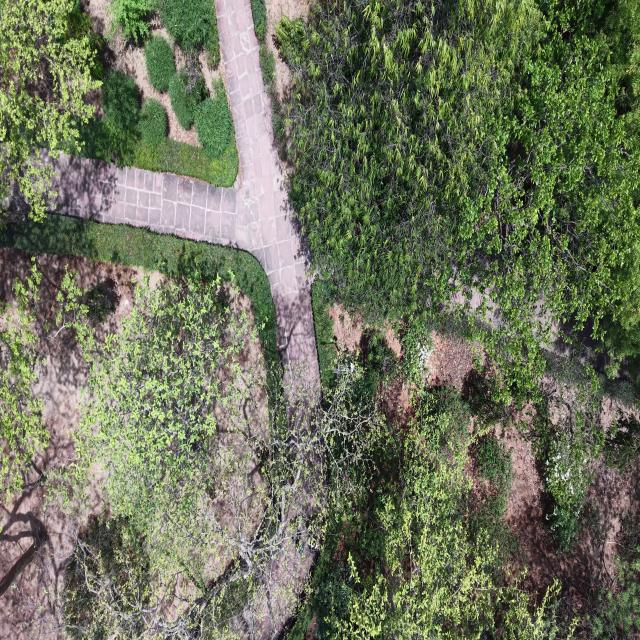DRY_AREA: (56, 57, 317, 380), (215, 0, 319, 391), (0, 330, 107, 639), (492, 403, 639, 615), (496, 404, 639, 613), (0, 332, 88, 639), (497, 420, 639, 597), (81, 0, 199, 145)
PATHWAYS: (52, 0, 319, 390), (52, 0, 319, 388)
VEGETATION_TREE: (0, 0, 639, 639), (23, 220, 574, 638), (278, 2, 639, 551), (52, 273, 563, 638), (65, 281, 554, 637), (278, 0, 639, 395), (0, 270, 303, 637), (61, 280, 367, 638), (25, 272, 308, 637), (14, 271, 292, 637), (289, 373, 635, 638), (309, 387, 561, 639), (73, 280, 259, 589), (516, 2, 639, 365), (0, 214, 278, 372), (289, 412, 447, 639), (517, 355, 639, 556), (516, 357, 637, 557), (63, 517, 249, 639), (0, 259, 92, 503), (0, 0, 101, 219), (64, 71, 238, 186), (67, 72, 238, 186), (68, 100, 238, 186), (531, 371, 604, 551), (0, 264, 48, 501), (63, 516, 151, 639), (467, 399, 517, 569), (543, 414, 600, 550), (110, 0, 219, 66), (68, 71, 140, 165), (588, 518, 639, 639), (251, 0, 286, 159), (134, 138, 238, 186), (354, 326, 422, 399), (157, 0, 220, 68), (160, 0, 219, 66), (471, 430, 513, 521), (102, 71, 140, 160), (259, 42, 287, 159), (66, 2, 106, 80), (312, 279, 337, 390), (194, 87, 233, 158), (357, 328, 397, 397), (169, 70, 209, 129), (66, 119, 114, 161), (402, 322, 433, 387), (604, 415, 639, 471), (474, 434, 512, 485), (109, 0, 155, 41), (145, 36, 175, 92), (82, 280, 119, 324), (138, 99, 167, 146), (169, 74, 193, 129), (185, 69, 209, 117), (287, 603, 313, 639), (204, 23, 220, 68), (251, 0, 267, 42), (259, 47, 275, 86)
